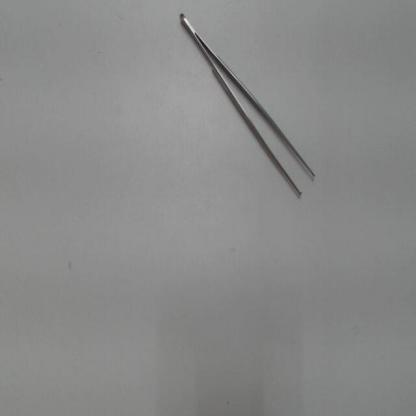Gillies Toothed Dissector: (172, 5, 326, 214)
